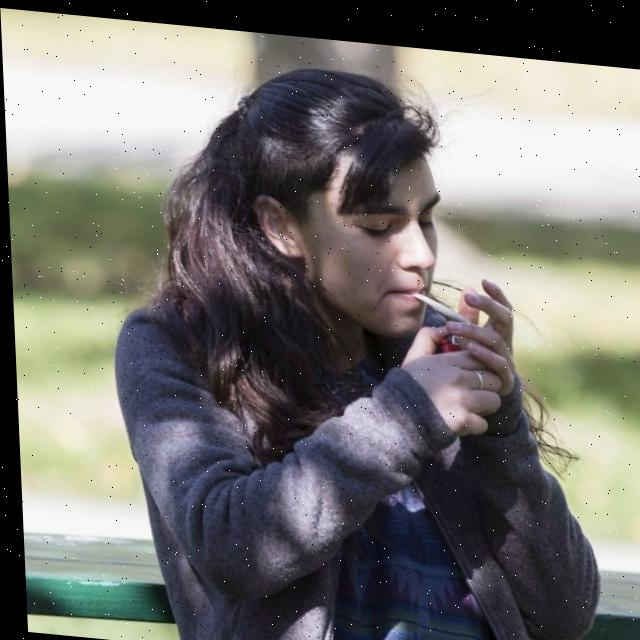cigarette: (408, 285, 468, 314)
